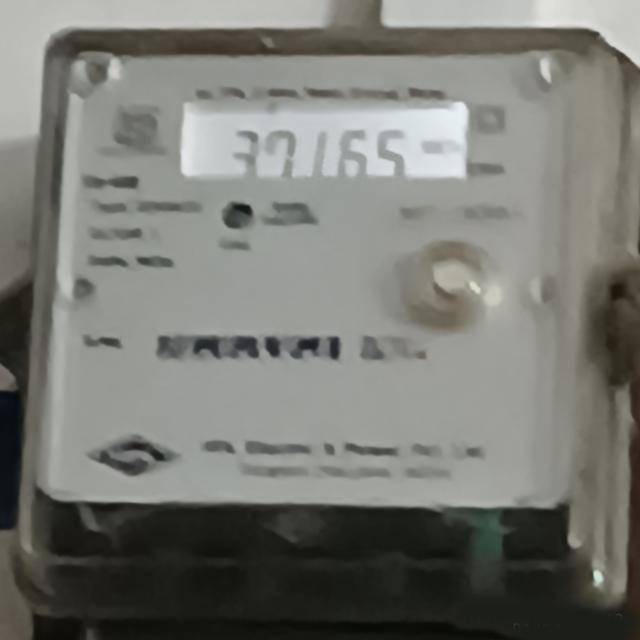display: (174, 98, 466, 179)
